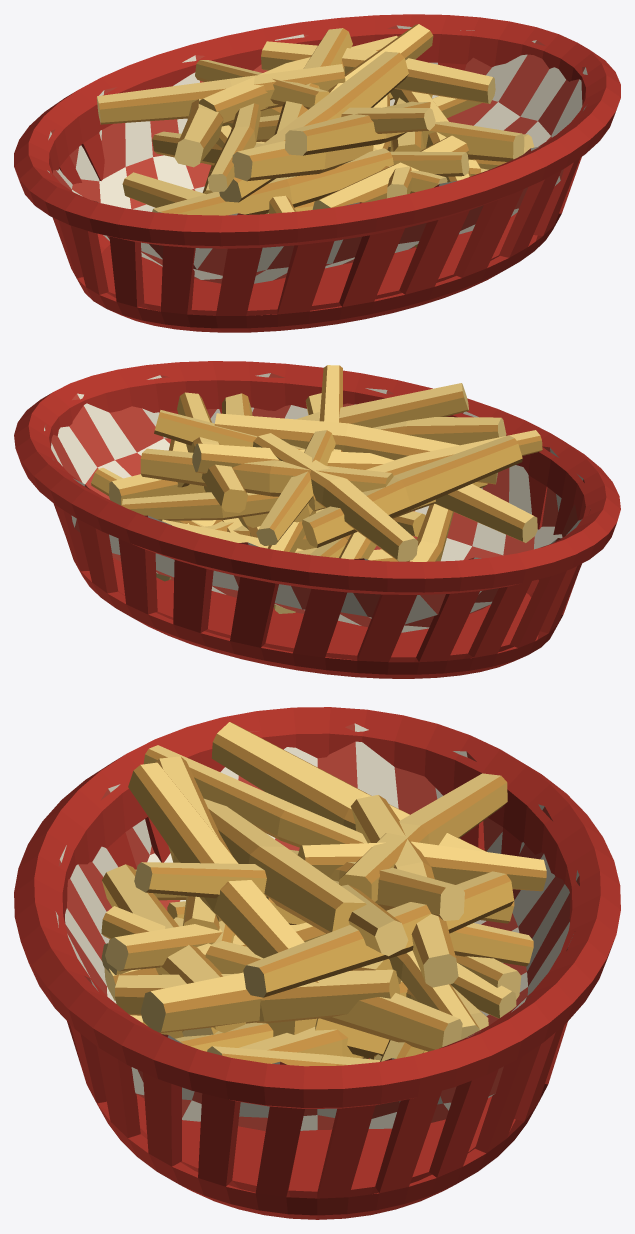
Rendered from serving_basket.glb.
3 renders of one model, top to bottom at view 1: azimuth 30°, elevation 25°; view 2: azimuth 150°, elevation 25°; view 3: azimuth 270°, elevation 25°, orthographic. The views are drawn at different scales.
Parts seen in each view (by area): view 1: Oval lattice basket, Hand-cut golden fries, Folded checker paper; view 2: Oval lattice basket, Hand-cut golden fries, Folded checker paper; view 3: Oval lattice basket, Hand-cut golden fries, Folded checker paper.
Part boxes in pixels (<box>): Oval lattice basket: <box>14,14,620,332</box>; Hand-cut golden fries: <box>96,24,534,247</box>; Folded checker paper: <box>47,25,587,283</box>; Oval lattice basket: <box>14,361,620,678</box>; Hand-cut golden fries: <box>91,365,542,613</box>; Folded checker paper: <box>44,373,590,632</box>; Oval lattice basket: <box>14,707,620,1219</box>; Hand-cut golden fries: <box>101,722,546,1066</box>; Folded checker paper: <box>55,723,579,1130</box>.
Bounding box in the file's own units: 0.2198 × 0.0718 × 0.1498.
